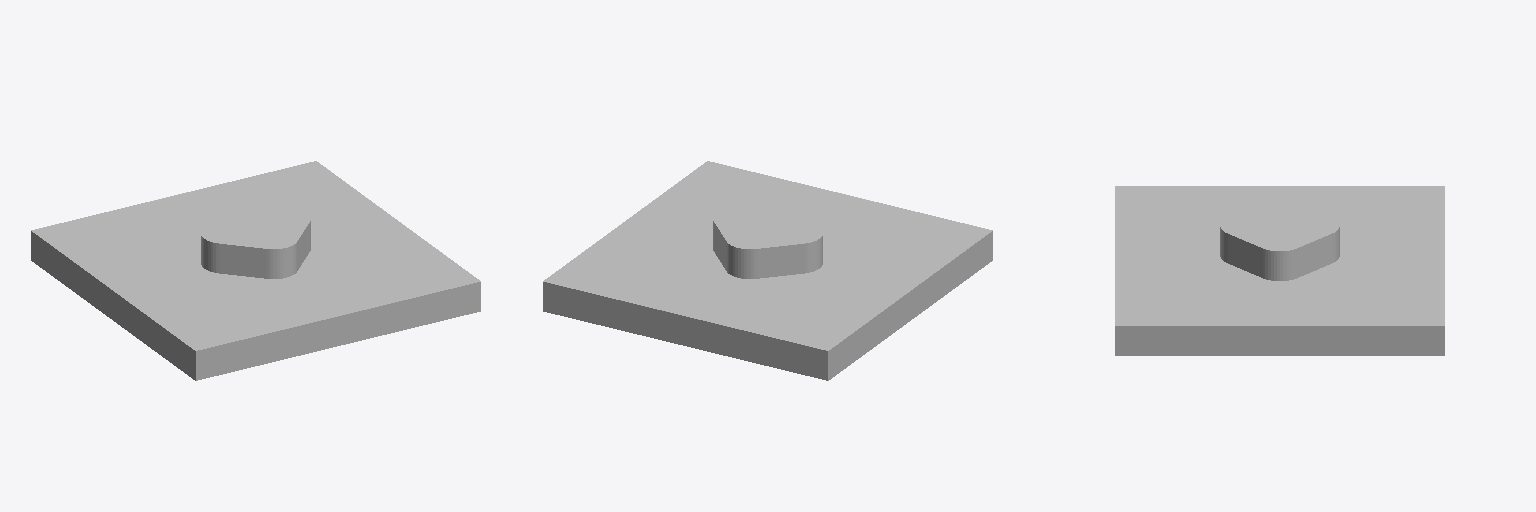
Rendered from mobstacleopen.obj.
3 renders of one model, left to right at view 1: azimuth 30°, elevation 25°; view 2: azimuth 150°, elevation 25°; view 3: azimuth 270°, elevation 25°, orthographic.
Parts seen in each view (by area): view 1: mobstacleopen; view 2: mobstacleopen; view 3: mobstacleopen.
Part boxes in pixels (x1,y1,x2,y2): mobstacleopen: (31, 161, 480, 380); mobstacleopen: (543, 161, 992, 380); mobstacleopen: (1115, 186, 1444, 355).
Bounding box in the file's own units: 10 × 2 × 10.